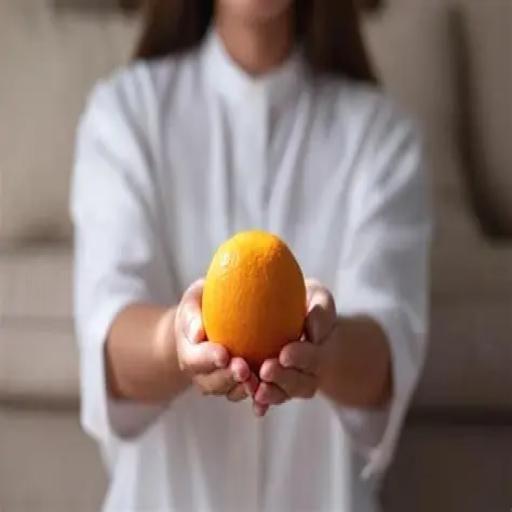orange: (202, 231, 306, 370)
